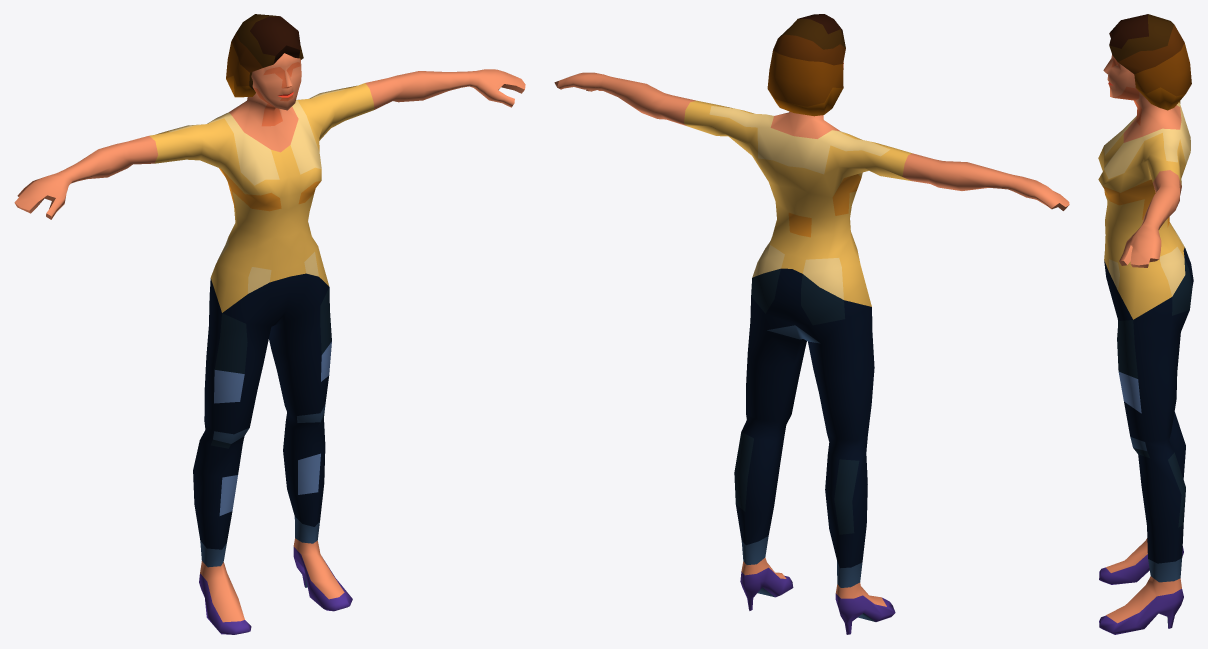
The model's file is Female_Model_1.FBX.
3 renders of one model, left to right at view 1: azimuth 30°, elevation 25°; view 2: azimuth 150°, elevation 25°; view 3: azimuth 270°, elevation 25°, orthographic.
Visible parts, largest first — view 1: lpFemale_casual_G002; view 2: lpFemale_casual_G002; view 3: lpFemale_casual_G002.
Boxes of the visible parts, x1,y1,x2,y2 form: lpFemale_casual_G002: (14,14,525,634); lpFemale_casual_G002: (554,14,1069,634); lpFemale_casual_G002: (1098,14,1193,634).
Bounding box in the file's own units: 60.9 × 67.73 × 9.98.
